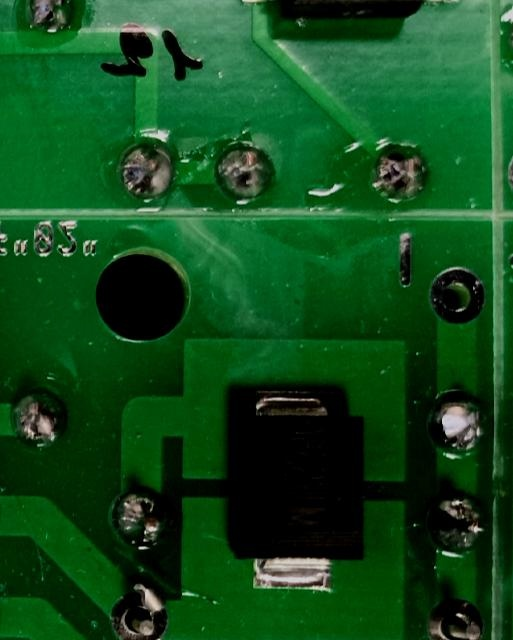diode: (231, 385, 365, 599)
